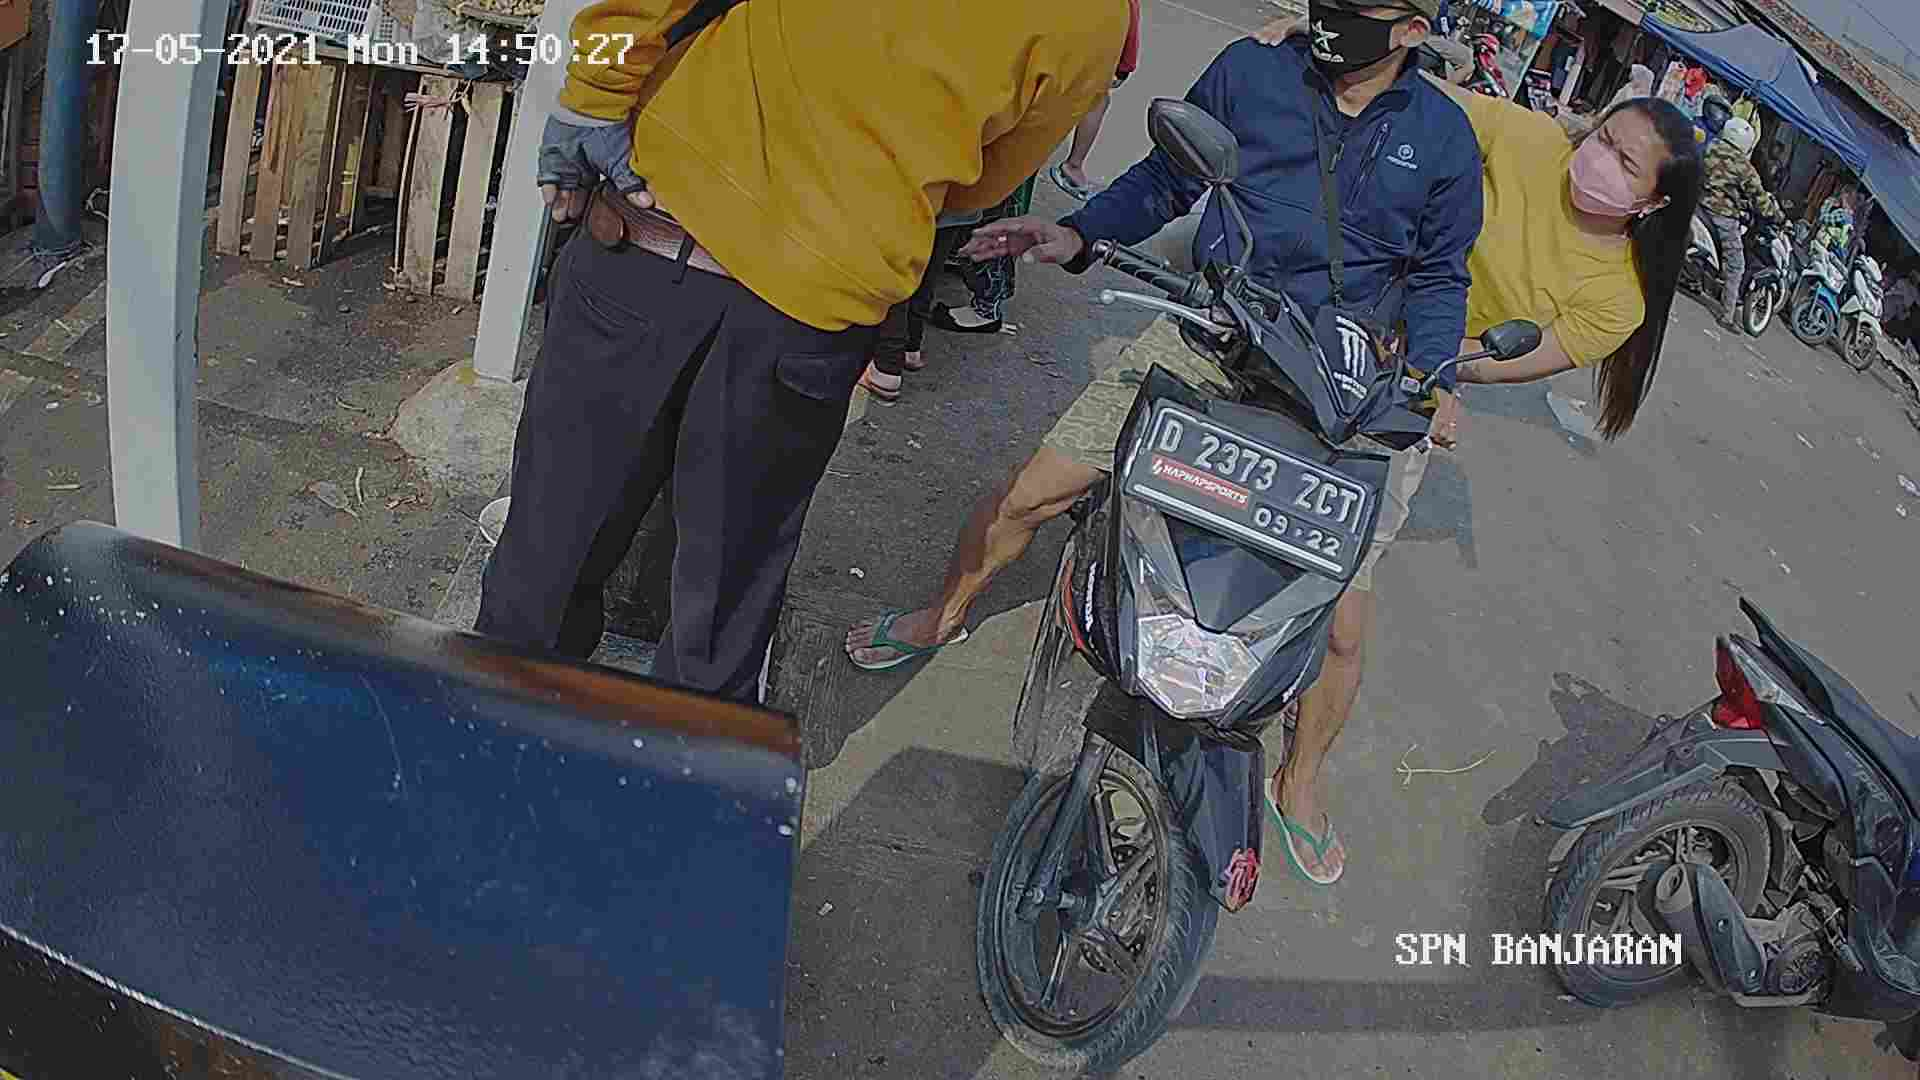motor: (1035, 222, 1408, 1073), (1560, 618, 1920, 1033)
